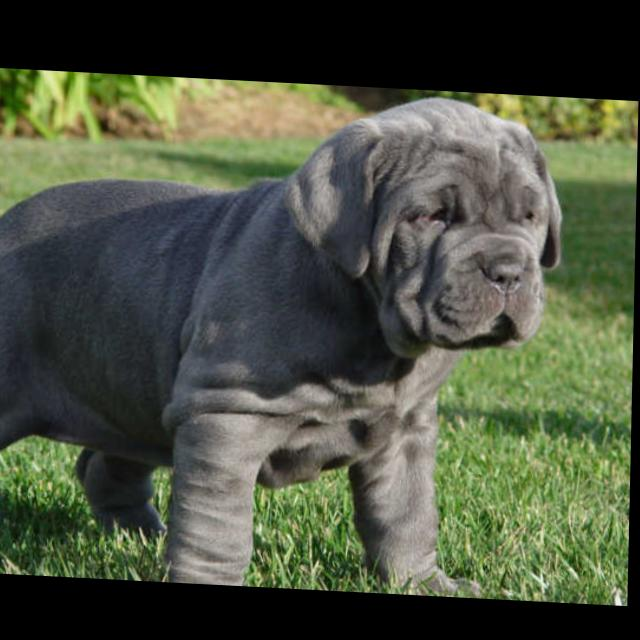mastino_napoletano: (1, 72, 569, 596)
